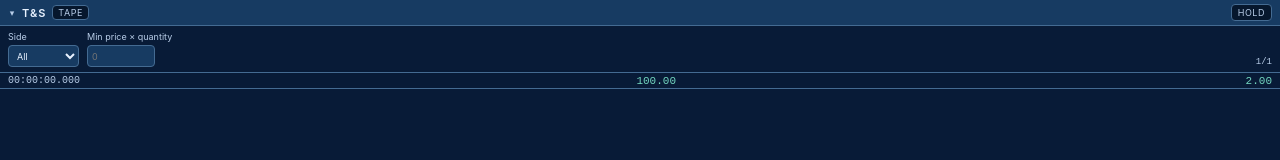
Test: Tape inspection controls › shows the retained count and an honest no-match empty state
Select "Sell" in the dropdown with test id "tape-side" at (44, 56), box [8, 45, 79, 67]
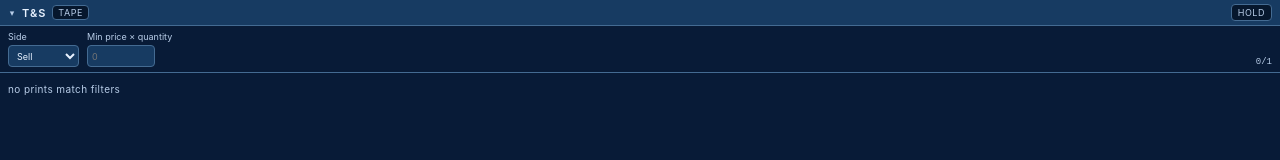
expect the text with test id "tape-count" reads "0/1": met, box [1256, 57, 1272, 67]
expect the text "no prints match filters" is shown: met, box [8, 83, 120, 95]
